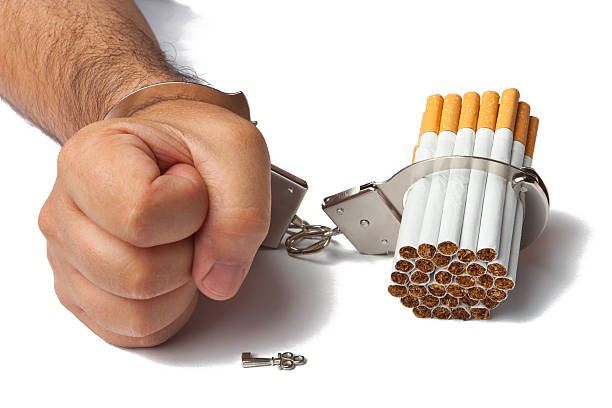cigarette: (475, 87, 522, 263), (494, 114, 541, 290), (486, 100, 532, 278), (416, 92, 464, 261), (397, 92, 444, 260), (455, 89, 500, 264), (436, 90, 481, 257), (432, 251, 453, 269), (414, 257, 436, 274), (447, 259, 467, 276), (471, 304, 491, 321), (394, 259, 416, 274), (454, 274, 476, 289), (446, 283, 468, 298), (487, 289, 510, 303), (410, 271, 431, 286), (387, 284, 408, 299), (435, 270, 454, 286), (441, 294, 460, 310), (467, 263, 487, 278), (451, 307, 472, 321), (399, 296, 421, 309), (428, 283, 447, 298), (468, 286, 487, 301), (432, 305, 451, 320), (408, 284, 428, 298), (421, 295, 441, 309), (460, 294, 480, 308), (389, 272, 410, 285), (411, 307, 433, 319), (482, 297, 502, 310), (477, 274, 494, 289)
